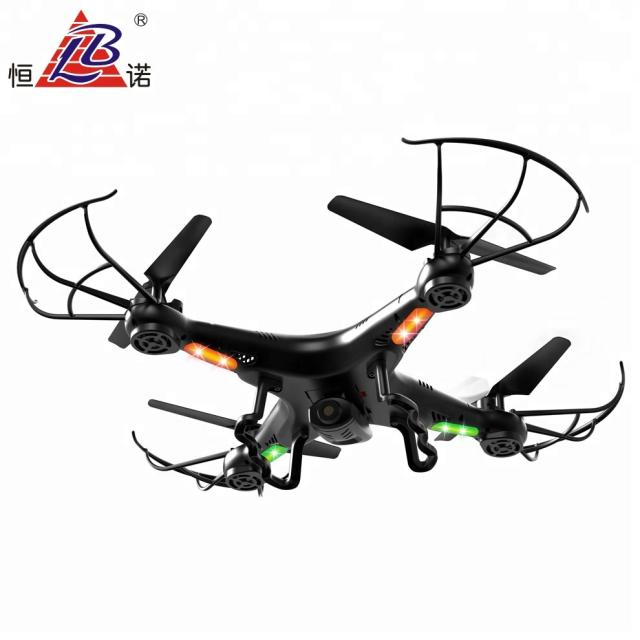drone: (0, 131, 640, 538)
